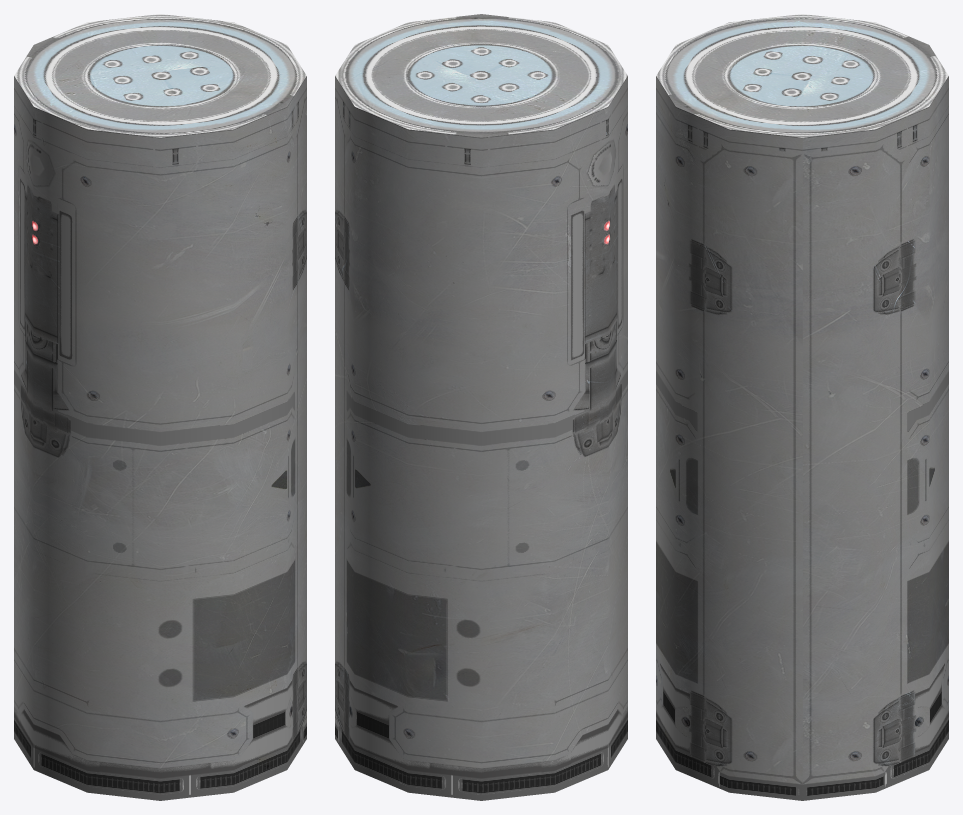
Rendered from SM_RambHose6.fbx.
3 renders of one model, left to right at view 1: azimuth 30°, elevation 25°; view 2: azimuth 150°, elevation 25°; view 3: azimuth 270°, elevation 25°, orthographic.
Visible parts, largest first — view 1: SM_RambHose6_LOD0; view 2: SM_RambHose6_LOD0; view 3: SM_RambHose6_LOD0.
Boxes of the visible parts, box(x1,y1,x2,y2) form: SM_RambHose6_LOD0: box(14, 14, 306, 800); SM_RambHose6_LOD0: box(335, 14, 627, 800); SM_RambHose6_LOD0: box(656, 14, 948, 800).
Size of the model in its own units: 20 by 20 by 50.
